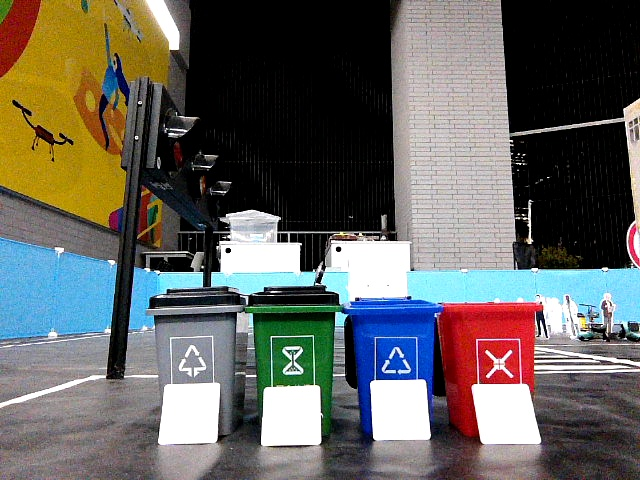blue_open: (354, 296, 430, 376)
green_close: (253, 285, 333, 381)
grey_close: (153, 288, 237, 381)
red_open: (448, 301, 529, 380)
